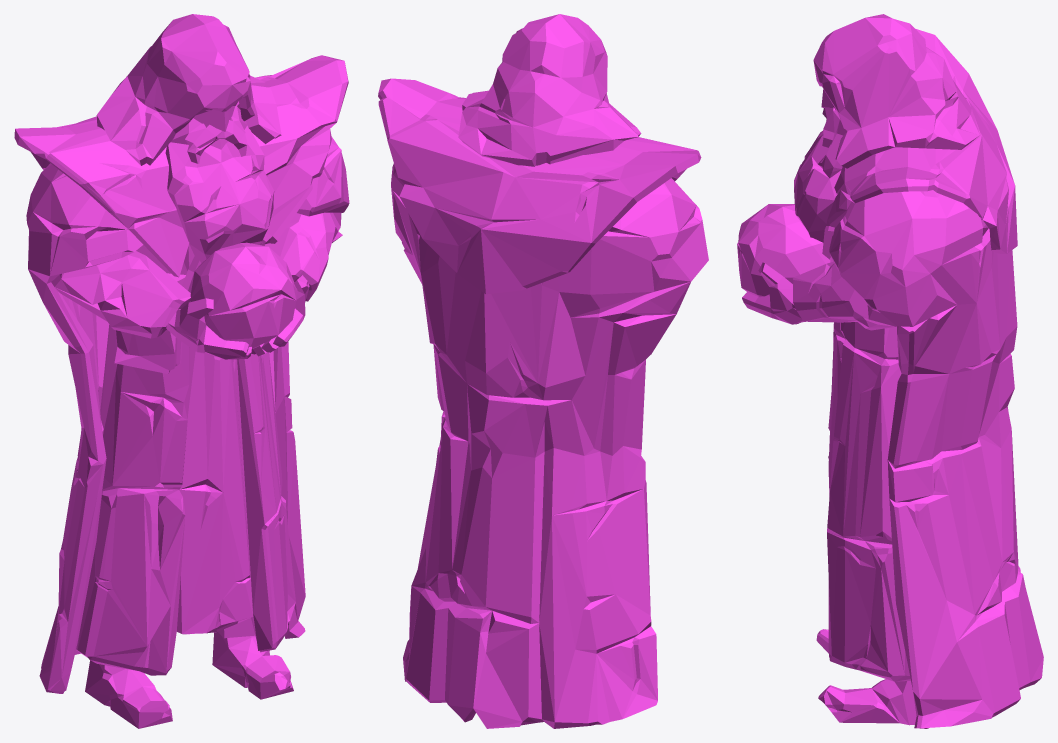
File: SM_Statue_Giant_Mage_Fantasy.fbx
3 renders of one model, left to right at view 1: azimuth 30°, elevation 25°; view 2: azimuth 150°, elevation 25°; view 3: azimuth 270°, elevation 25°, orthographic. The views are drawn at different scales.
Visible parts, largest first — view 1: SM_Statue_Giant_Mage_Fantasy; view 2: SM_Statue_Giant_Mage_Fantasy; view 3: SM_Statue_Giant_Mage_Fantasy.
Part boxes in pixels (x1,y1,x2,y2): SM_Statue_Giant_Mage_Fantasy: [14, 14, 349, 728]; SM_Statue_Giant_Mage_Fantasy: [378, 14, 708, 728]; SM_Statue_Giant_Mage_Fantasy: [737, 14, 1043, 728].
Size of the model in its own units: 14.89 by 29.4 by 12.22.
